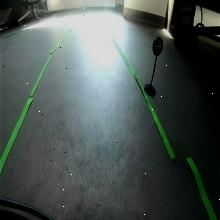right: (152, 36, 164, 55)
